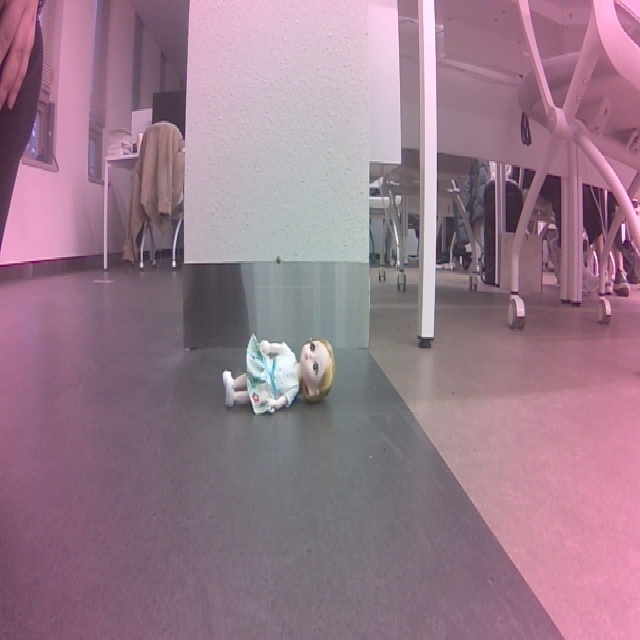장애물: (213, 332, 339, 418)
